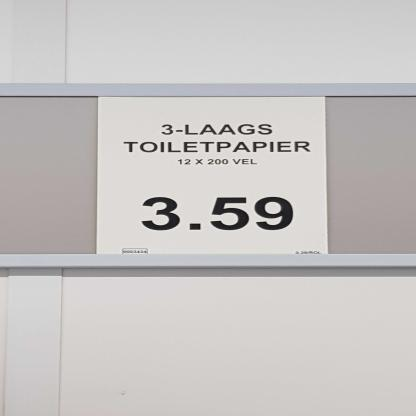prtg: (98, 98, 331, 255)
